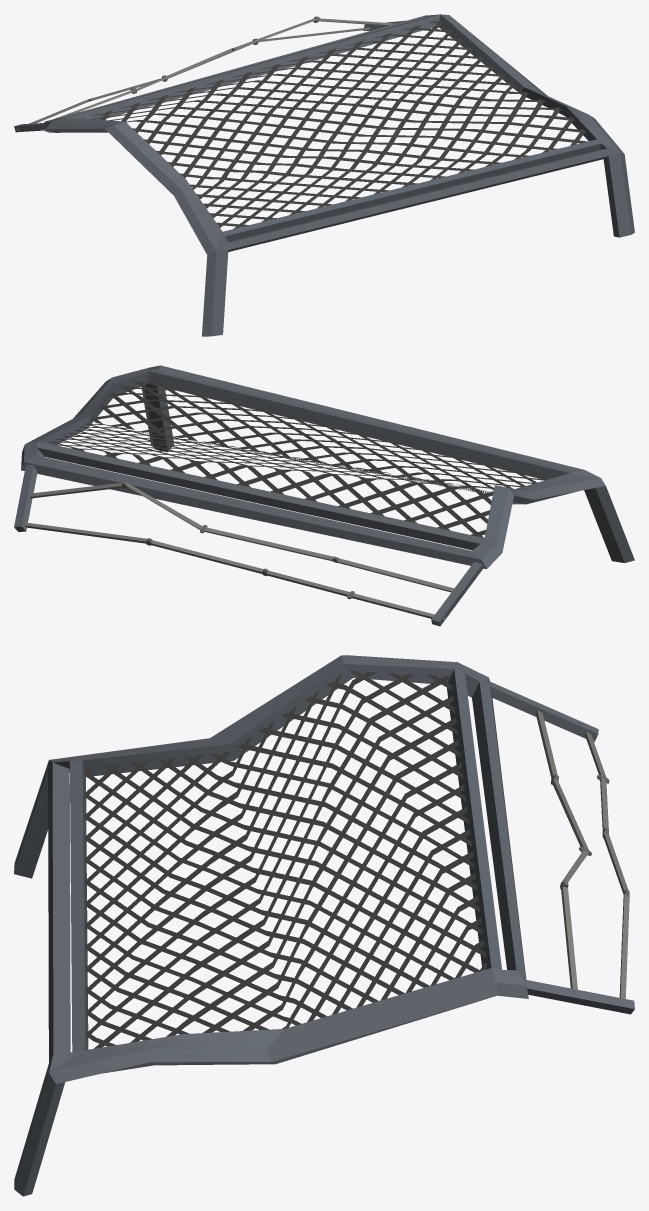
Rendered from SM_Prop_Fence_Damaged_02.glb.
3 renders of one model, top to bottom at view 1: azimuth 30°, elevation 25°; view 2: azimuth 150°, elevation 25°; view 3: azimuth 270°, elevation 25°, orthographic. The views are drawn at different scales.
Parts seen in each view (by area): view 1: SM_Prop_Fence_Damaged_02; view 2: SM_Prop_Fence_Damaged_02; view 3: SM_Prop_Fence_Damaged_02.
Part boxes in pixels (<box>): SM_Prop_Fence_Damaged_02: <box>14,14,634,336</box>; SM_Prop_Fence_Damaged_02: <box>14,365,634,626</box>; SM_Prop_Fence_Damaged_02: <box>14,655,634,1196</box>.
Bounding box in the file's own units: 3.19 × 0.9361 × 2.4.
2 materials, 2 textured.
